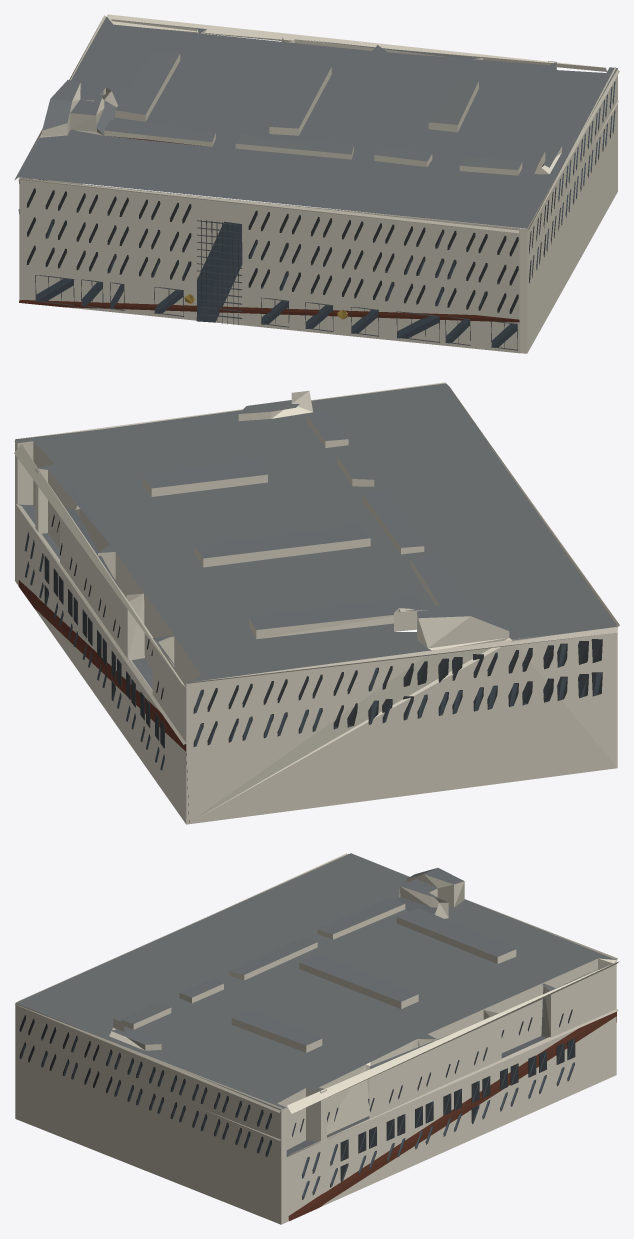
File: willem-de-zwijgerlaan-350.lod1.glb
3 renders of one model, top to bottom at view 1: azimuth 30°, elevation 25°; view 2: azimuth 150°, elevation 25°; view 3: azimuth 270°, elevation 25°, orthographic. The views are drawn at different scales.
Parts seen in each view (by area): view 1: willem-de-zwijgerlaan-350; view 2: willem-de-zwijgerlaan-350; view 3: willem-de-zwijgerlaan-350.
Part boxes in pixels (x1,y1,x2,y2): willem-de-zwijgerlaan-350: (14,14,619,353); willem-de-zwijgerlaan-350: (14,382,619,824); willem-de-zwijgerlaan-350: (15,853,618,1224).
Size of the model in its own units: 74.57 by 18.85 by 74.38.
